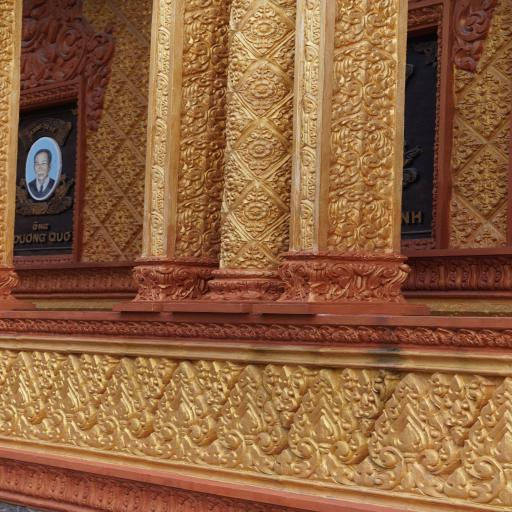hoa: (244, 139, 275, 160), (250, 18, 278, 37), (242, 202, 268, 220), (223, 110, 242, 129), (277, 172, 294, 192), (276, 234, 294, 252), (224, 172, 240, 190), (220, 233, 235, 250), (282, 111, 296, 128), (243, 260, 266, 270)
la: (330, 113, 396, 191), (333, 42, 397, 114), (328, 183, 393, 253), (313, 259, 403, 302), (335, 0, 399, 52), (180, 136, 226, 199), (184, 14, 228, 75), (178, 199, 223, 258), (182, 78, 225, 135), (172, 264, 216, 300), (134, 264, 172, 301), (279, 260, 313, 301), (475, 256, 512, 292), (406, 258, 447, 290), (454, 8, 488, 42), (444, 257, 478, 290), (455, 36, 488, 70), (299, 145, 319, 200), (298, 96, 318, 148), (301, 41, 319, 97), (467, 192, 508, 216), (469, 148, 506, 172), (470, 111, 504, 137), (298, 200, 316, 249), (471, 69, 506, 93), (467, 226, 505, 247), (149, 168, 167, 212), (152, 118, 168, 167), (492, 44, 512, 81), (456, 208, 482, 236), (457, 130, 483, 158), (156, 27, 172, 72), (185, 0, 232, 15), (153, 73, 169, 117), (453, 170, 479, 197), (304, 0, 319, 42), (456, 92, 480, 118), (149, 213, 164, 254), (492, 126, 512, 154), (242, 156, 273, 174), (452, 328, 482, 346), (430, 328, 460, 346), (407, 327, 437, 345), (242, 184, 271, 202), (268, 46, 288, 72), (495, 86, 512, 116), (156, 0, 174, 28), (267, 106, 286, 132), (490, 207, 510, 231), (272, 75, 292, 99), (475, 329, 501, 347), (392, 327, 419, 344), (330, 326, 358, 342), (262, 325, 290, 341), (498, 7, 512, 39), (246, 98, 274, 114), (271, 135, 288, 161), (494, 164, 509, 193), (242, 219, 266, 237), (281, 325, 306, 342), (368, 327, 394, 343), (314, 326, 340, 342), (251, 3, 277, 19), (247, 124, 273, 140), (224, 94, 247, 112), (268, 199, 285, 223), (242, 243, 266, 260), (235, 138, 251, 163), (274, 16, 292, 38), (261, 230, 279, 252), (351, 327, 375, 343), (248, 324, 272, 340), (250, 37, 274, 53), (240, 48, 258, 69), (248, 64, 273, 79), (218, 323, 240, 340), (234, 324, 257, 340), (296, 326, 322, 340), (224, 128, 244, 146), (276, 189, 296, 207), (237, 168, 253, 190), (265, 170, 281, 192), (201, 324, 226, 338), (128, 154, 145, 174), (238, 79, 252, 103), (112, 174, 134, 189), (418, 7, 440, 22), (226, 37, 248, 52), (104, 158, 122, 176), (161, 322, 184, 336), (175, 323, 197, 337), (496, 329, 512, 348), (130, 126, 146, 145), (92, 174, 111, 190), (107, 186, 123, 205), (92, 204, 111, 220), (225, 156, 244, 172), (224, 189, 243, 205), (92, 231, 112, 246), (233, 201, 248, 221), (93, 149, 114, 163), (116, 142, 134, 158), (113, 232, 131, 248), (189, 324, 211, 337), (87, 158, 100, 180), (135, 322, 154, 337), (127, 185, 142, 204), (149, 322, 169, 336), (98, 321, 118, 335), (128, 214, 142, 234), (85, 214, 98, 235), (240, 18, 253, 39), (227, 68, 245, 83), (31, 318, 50, 332), (85, 321, 105, 334), (234, 232, 247, 252), (115, 202, 131, 218), (103, 245, 119, 261), (124, 243, 139, 260), (63, 320, 81, 334), (96, 118, 114, 132), (123, 322, 142, 335), (242, 107, 255, 126), (74, 321, 94, 333), (86, 134, 101, 150), (220, 216, 236, 231), (43, 319, 60, 333), (82, 244, 96, 261), (279, 160, 296, 174), (110, 322, 128, 335), (109, 131, 123, 147), (222, 250, 236, 266), (11, 319, 28, 332), (105, 216, 118, 233), (52, 320, 70, 332), (84, 188, 95, 206), (23, 318, 37, 332), (0, 318, 14, 331)
lua: (363, 371, 467, 499), (286, 364, 370, 486), (218, 363, 287, 473), (149, 360, 215, 464), (464, 374, 512, 508), (424, 369, 496, 447), (97, 357, 155, 453), (47, 354, 98, 446), (0, 350, 44, 438), (337, 366, 391, 436), (256, 361, 310, 428), (195, 357, 241, 406), (134, 355, 173, 410), (78, 351, 115, 405), (33, 348, 60, 400), (0, 348, 18, 395)
than: (98, 132, 113, 149), (92, 245, 107, 262), (95, 188, 109, 205)
